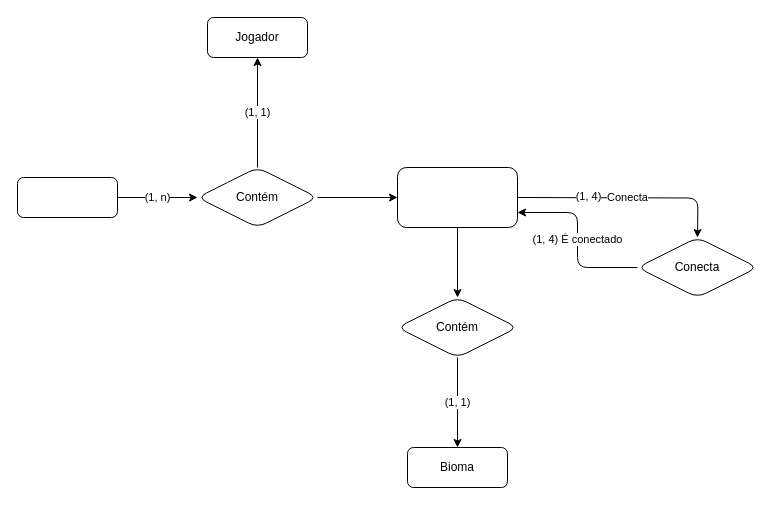
The diagram is 775 pixels wide and 505 high, and some of its shapes have lost their labels. The shapes that lost their labels are listed below. From the top down, each one's centre as x and y in pixels, then its label:
the point at 67,197: Mapa
the point at 457,197: posição
